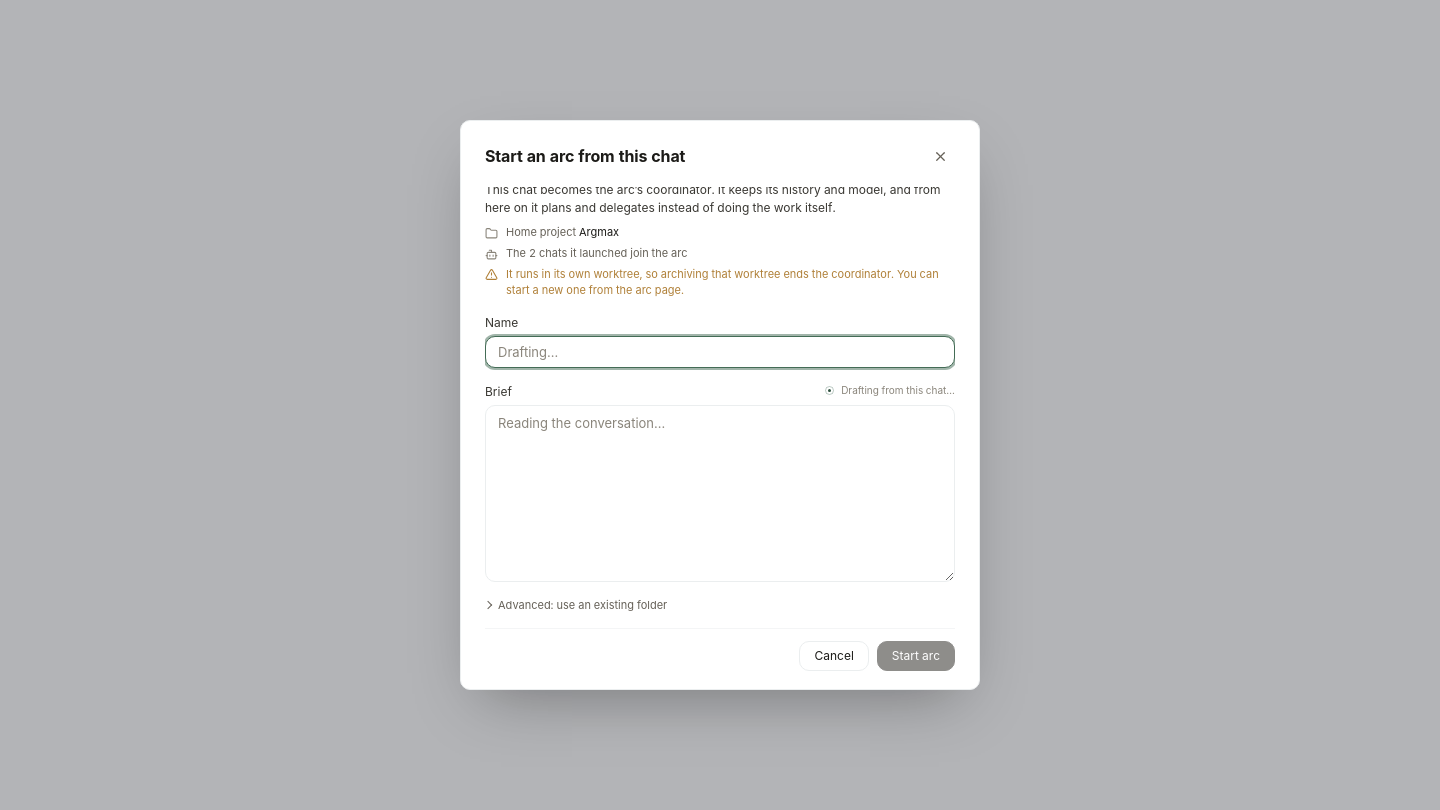
Test case: NewArcDialog › starting from a chat › never overwrites a field the person typed into before the draft landed
Expected: the text "Drafting from this chat…" is shown, [824,384,955,396]
Type "My own name" into the field labelled "Name" at (720, 352), box [485,336,955,368]
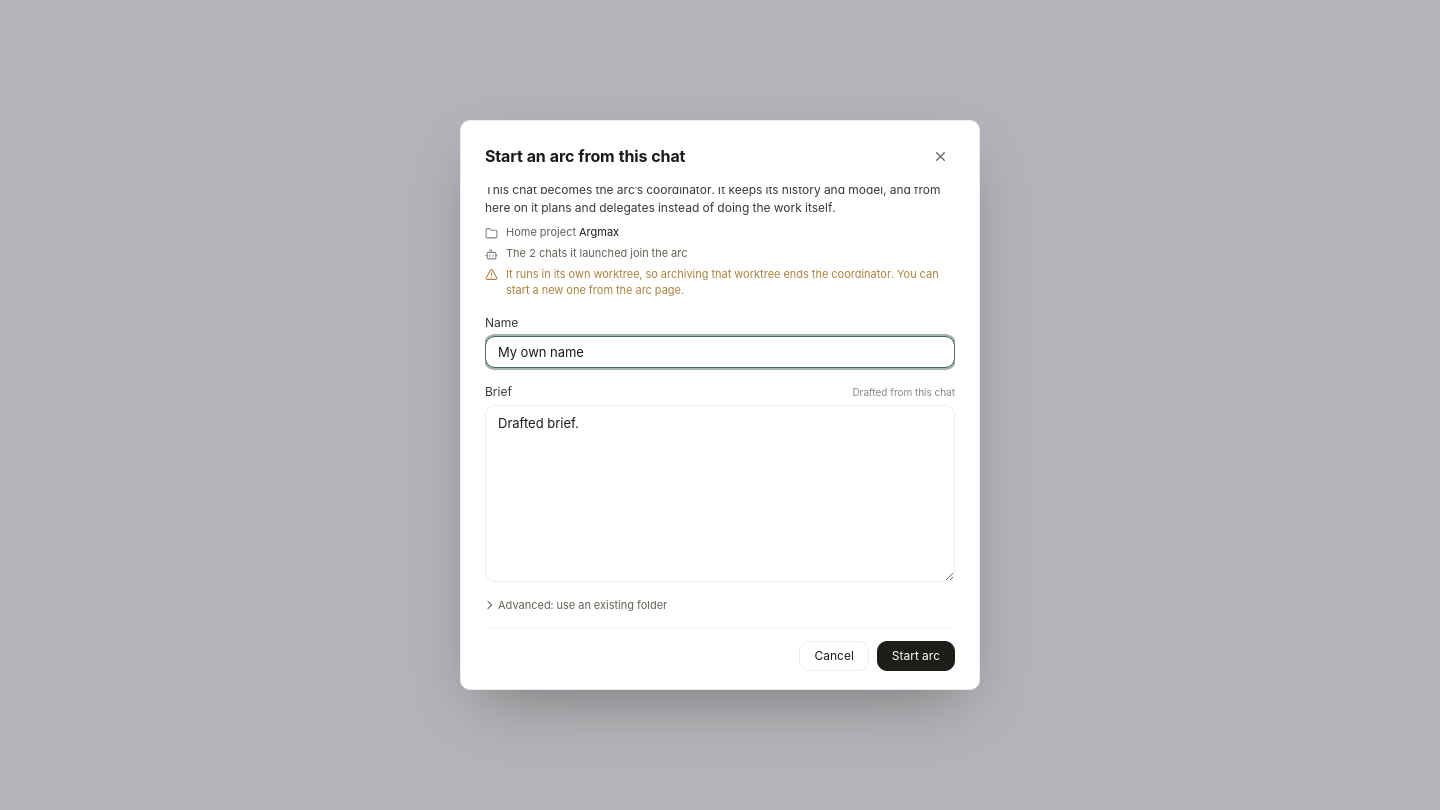
Expected: the text box labelled "Brief" holds "Drafted brief.", [485,405,955,582]
